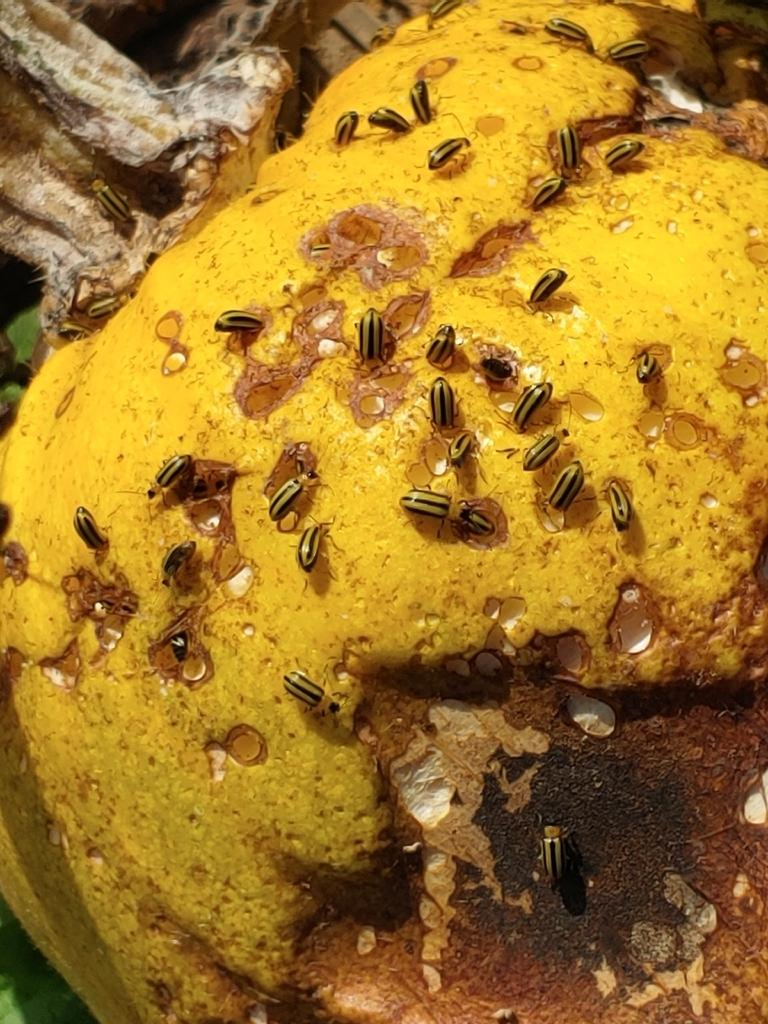potato_beetle: (384, 459, 470, 541), (196, 290, 287, 366), (253, 439, 327, 527), (517, 251, 579, 329), (277, 654, 340, 724), (346, 293, 396, 376), (413, 373, 470, 441), (509, 419, 573, 479), (416, 127, 477, 181)
